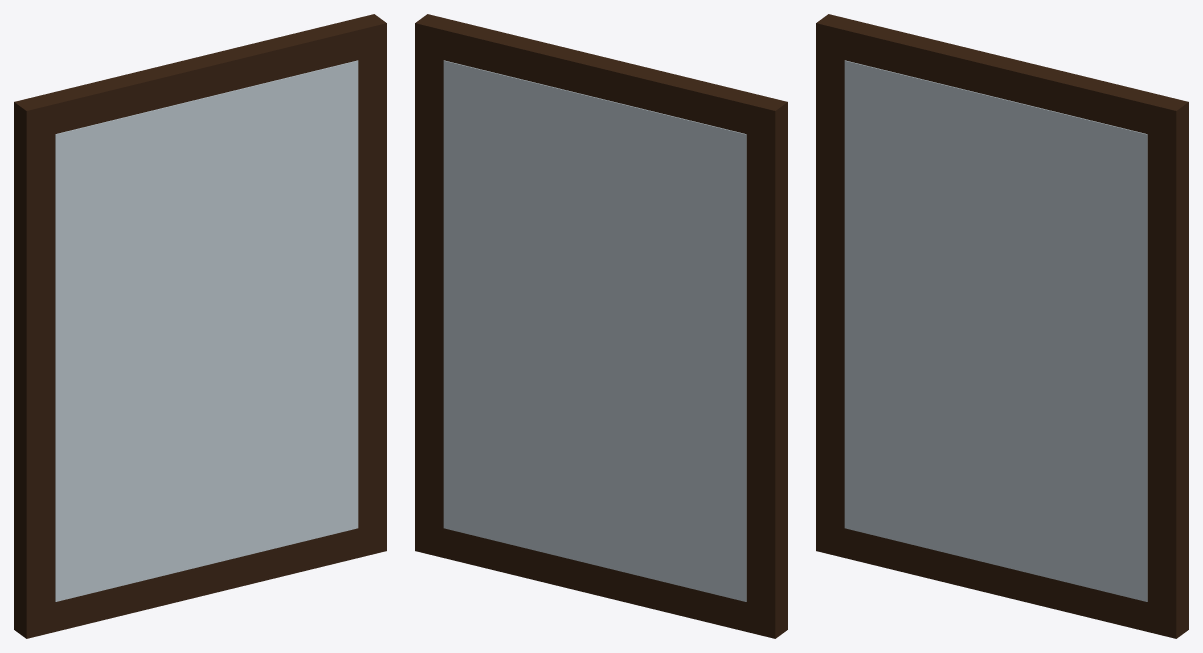
File: mirror.obj
3 views of the same model, side by side, from view 1: azimuth 30°, elevation 25°; view 2: azimuth 150°, elevation 25°; view 3: azimuth 330°, elevation 25° (orthographic).
Visible parts, largest first — view 1: mirror_1, mirror_0; view 2: mirror_1, mirror_0; view 3: mirror_1, mirror_0.
Part boxes in pixels (box(x1,y1,x2,y2)): mirror_1: box(55, 60, 358, 601); mirror_0: box(14, 14, 386, 638); mirror_1: box(443, 60, 746, 601); mirror_0: box(415, 14, 787, 638); mirror_1: box(844, 60, 1147, 601); mirror_0: box(816, 14, 1188, 638).
Bounding box in the file's own units: 0.5 × 0.7 × 0.032.
